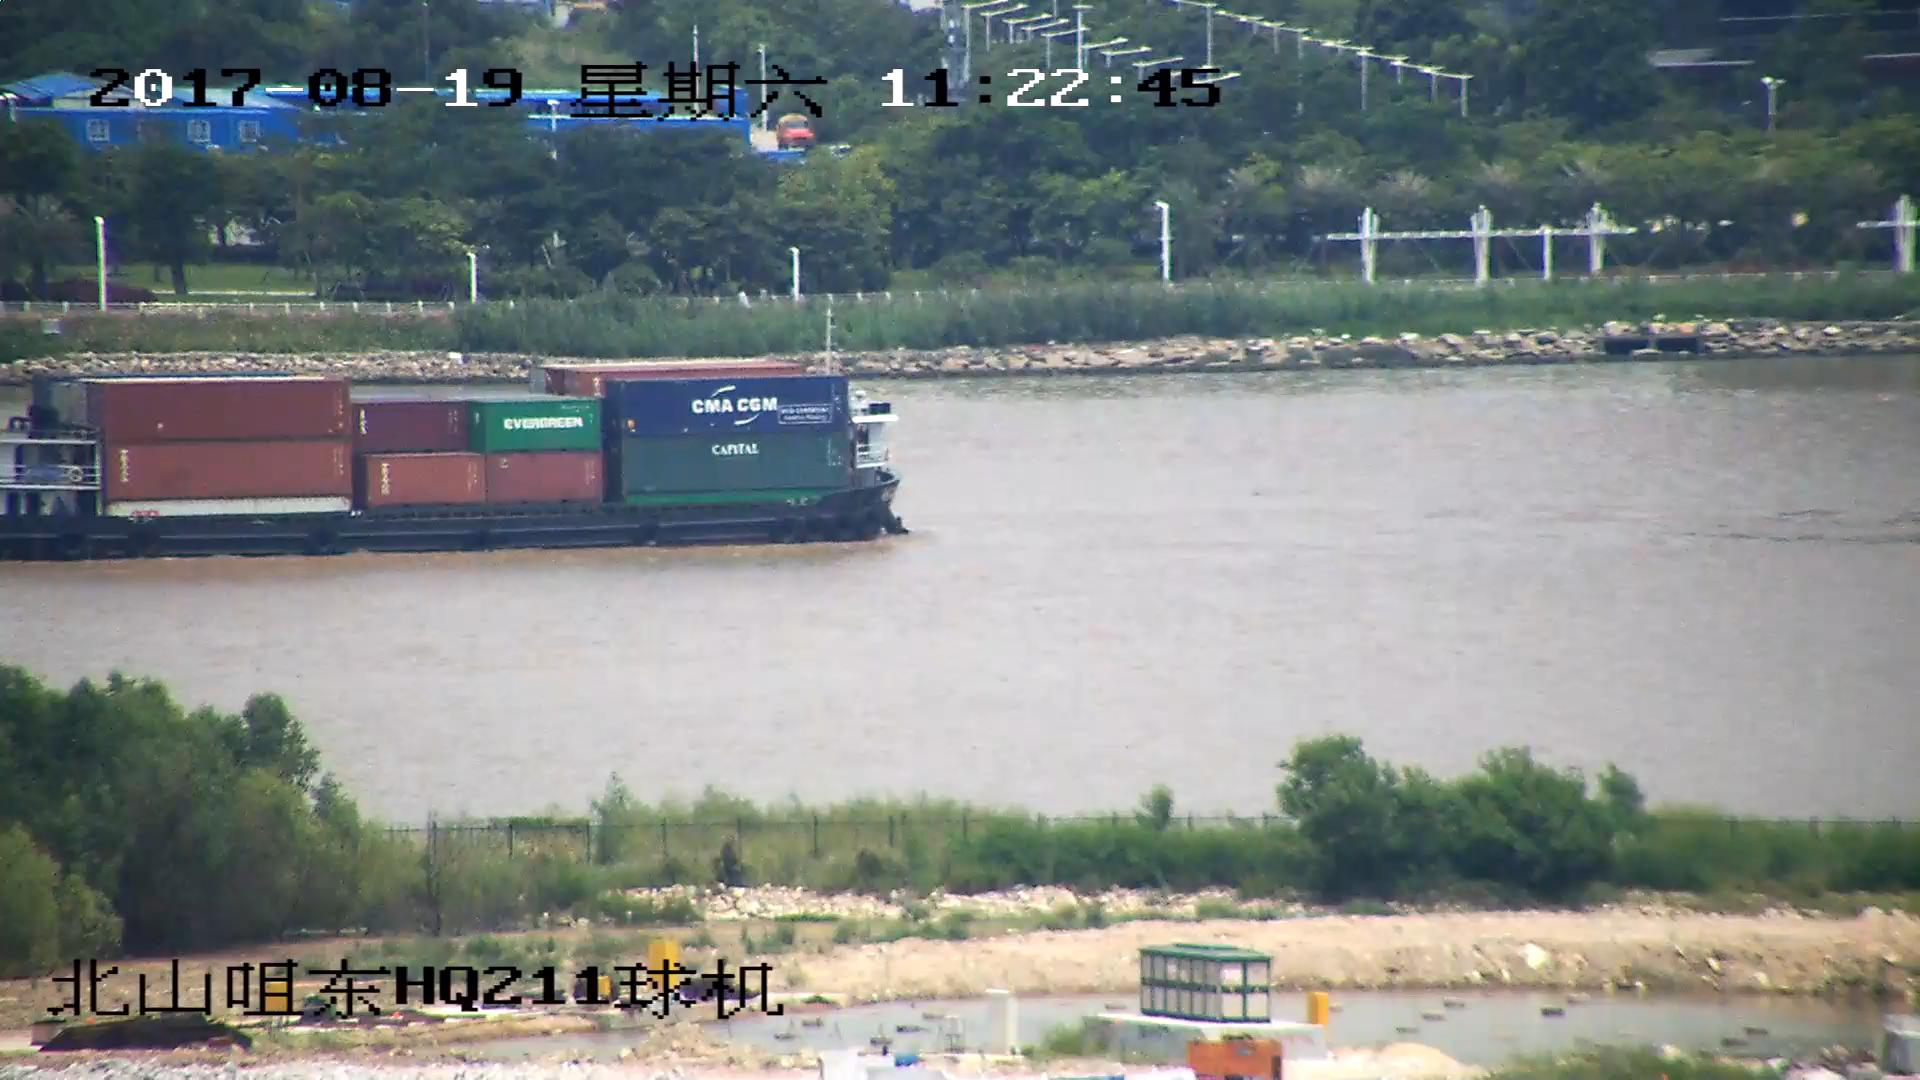container ship: (1, 308, 907, 561)
